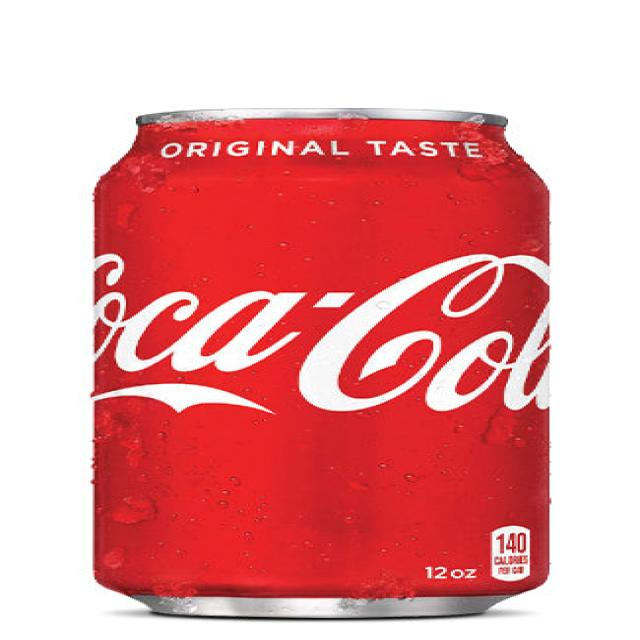cocacola: (93, 106, 550, 624)
